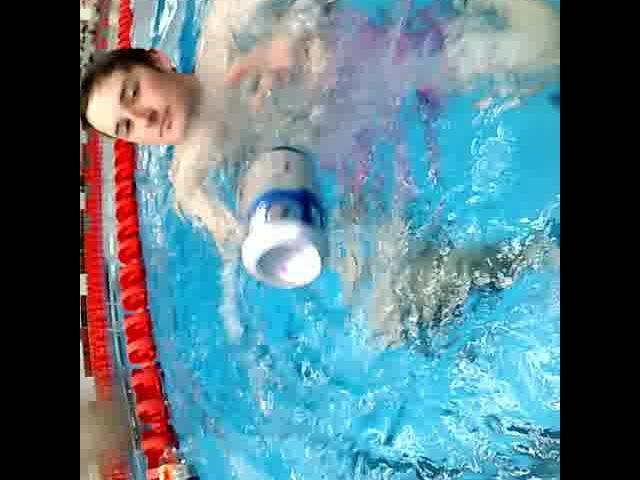Can: (234, 142, 332, 290)
